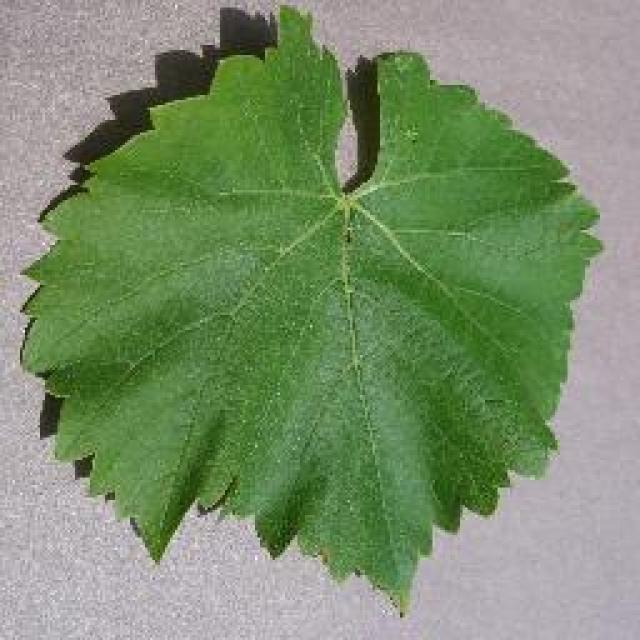Grape___healthy: (22, 8, 598, 605)
